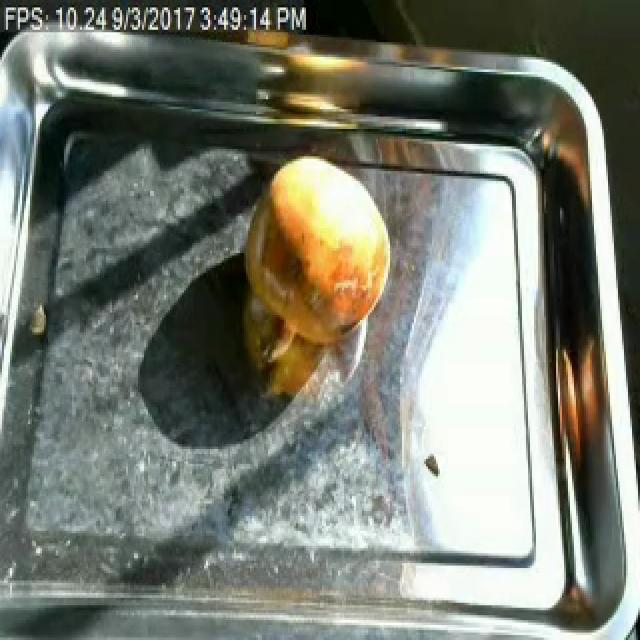fruit: (238, 146, 398, 358)
